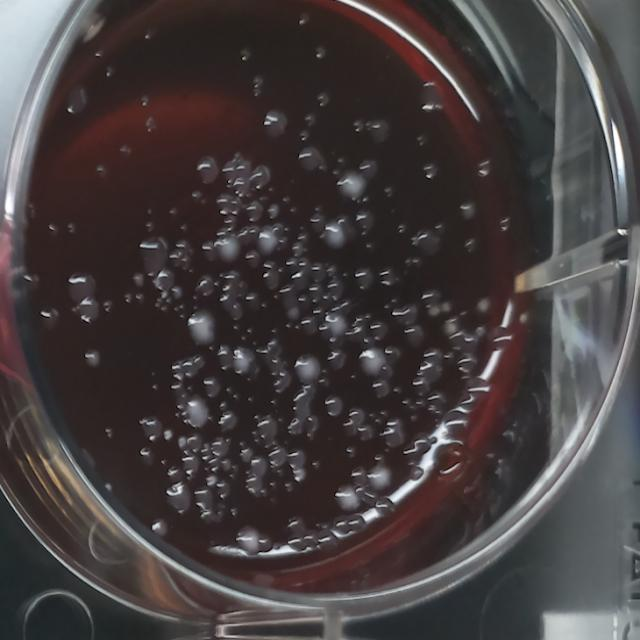Acinetobacter: (186, 309, 220, 349), (336, 167, 368, 204), (357, 346, 387, 381), (294, 351, 322, 386), (183, 397, 211, 432), (231, 346, 259, 380), (215, 233, 242, 268), (365, 461, 393, 494), (322, 218, 348, 252), (254, 226, 280, 256)
Staphylococcus: (475, 294, 491, 315), (203, 472, 219, 490), (516, 310, 532, 328), (442, 320, 458, 338), (426, 303, 441, 319), (473, 322, 486, 340), (439, 298, 453, 314), (160, 428, 174, 442), (176, 436, 188, 450), (159, 288, 169, 300)
Vibrio: (136, 233, 170, 276), (64, 269, 98, 305), (192, 152, 221, 188), (260, 106, 290, 140)
